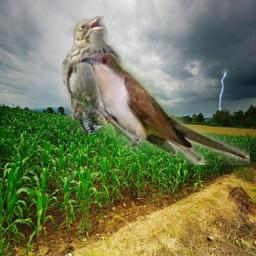Crow: (71, 50, 106, 134)
Cuckoo: (80, 53, 250, 165)
Sparrow: (62, 16, 122, 120)
